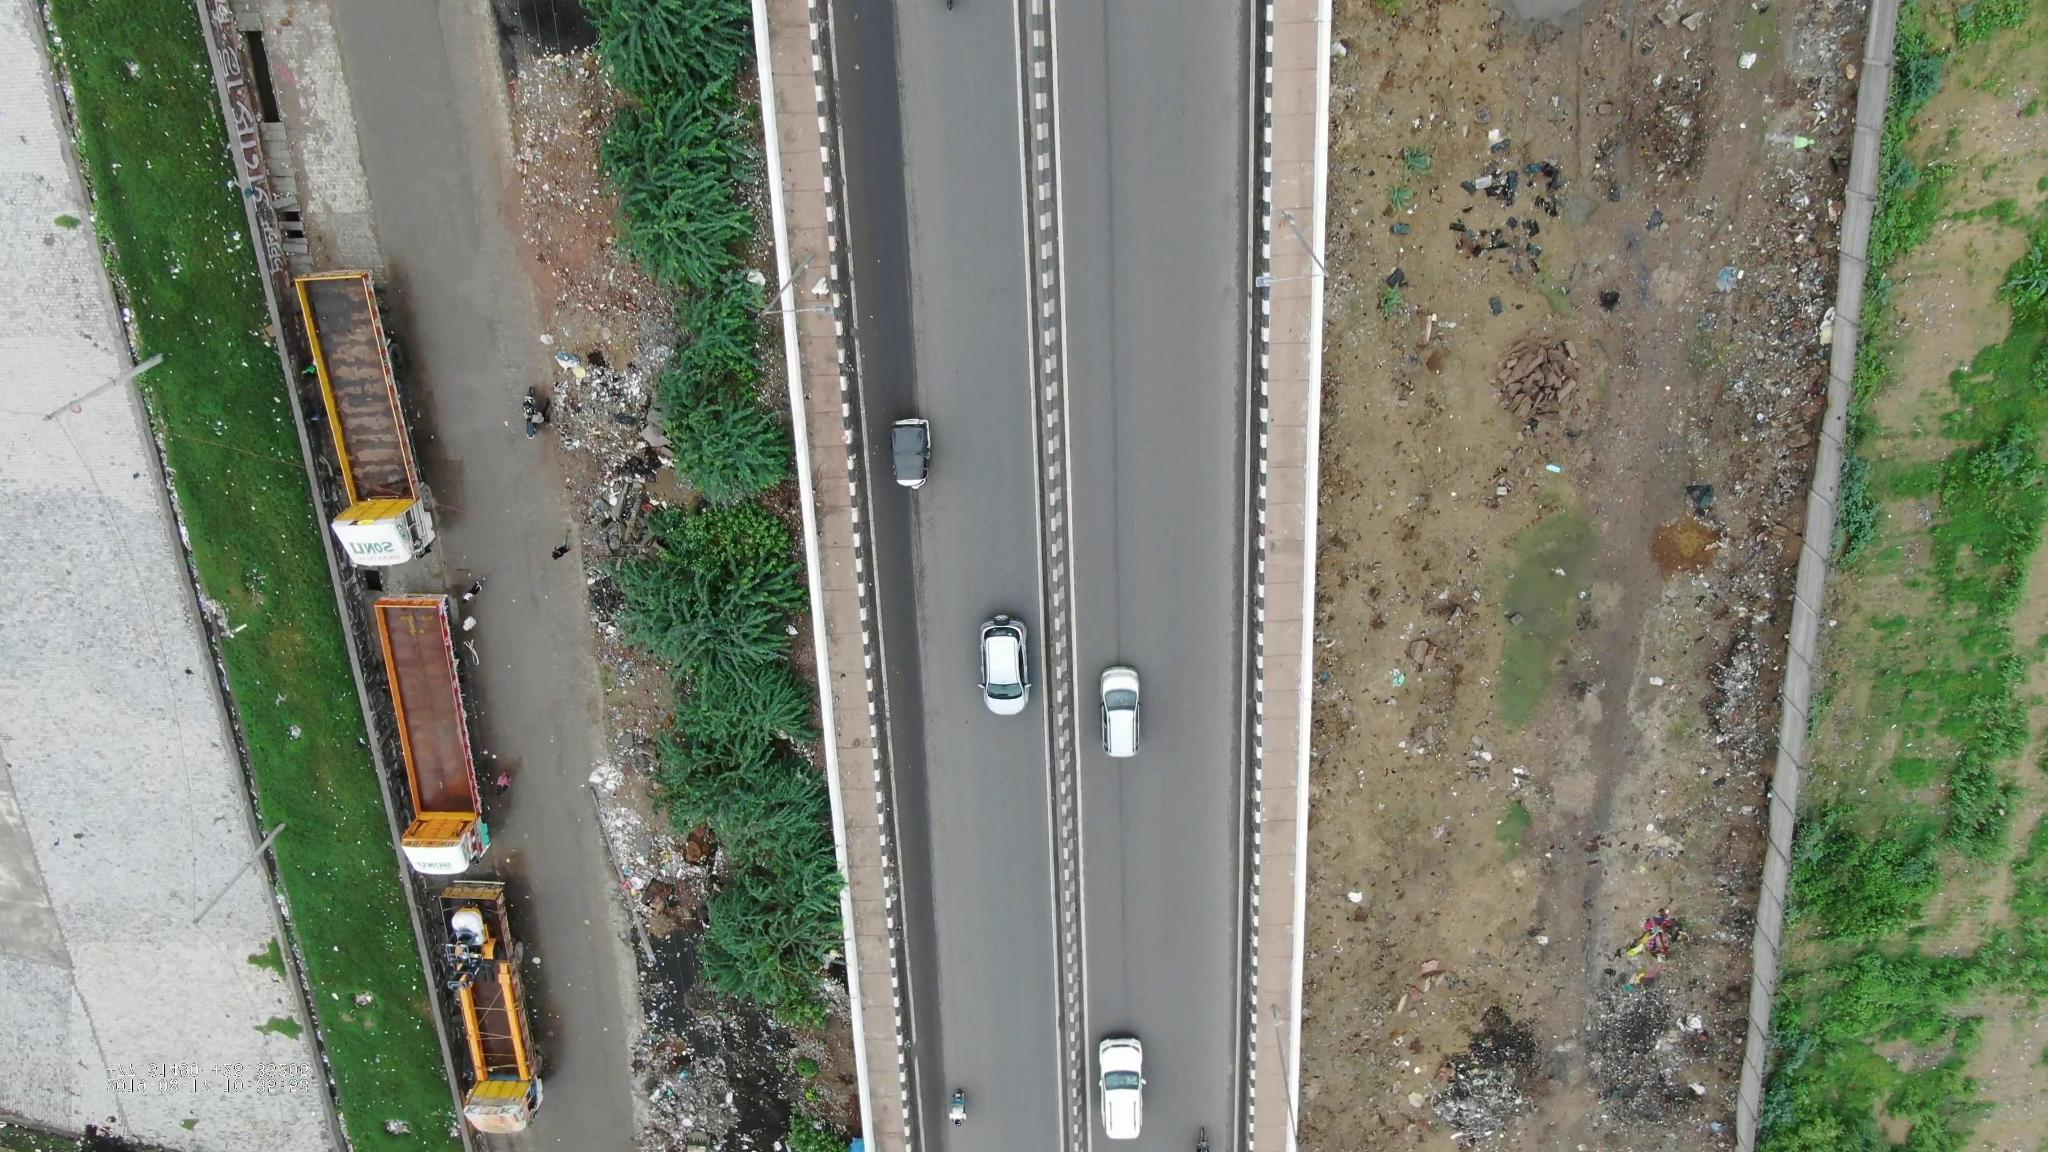Road_side_garbage: (616, 909, 813, 1148)
